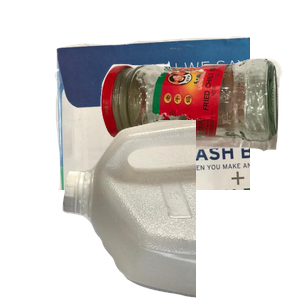glass: (98, 56, 300, 201)
paper: (52, 34, 292, 214)
plastic: (60, 120, 300, 300)
trash: (109, 175, 279, 300)
